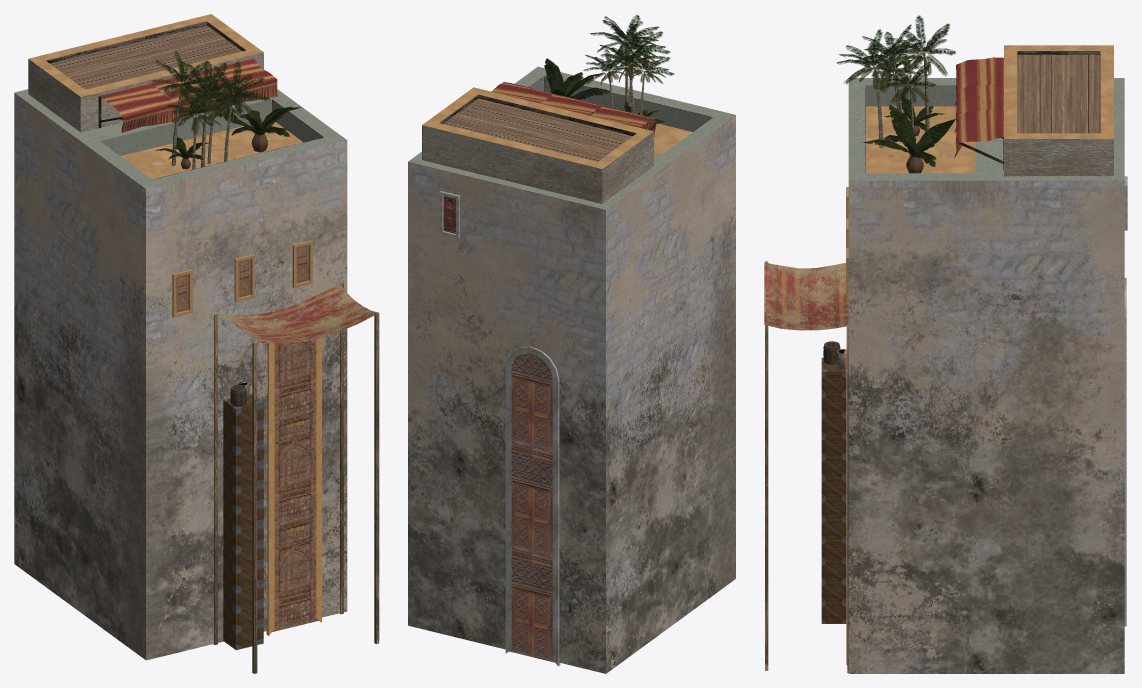
The model's file is medina_cityscape_daar_03_1.gltf.
3 views of the same model, side by side, from view 1: azimuth 30°, elevation 25°; view 2: azimuth 150°, elevation 25°; view 3: azimuth 270°, elevation 25° (orthographic). The views are drawn at different scales.
Parts seen in each view (by area): view 1: medina_cityscape_daar_03_1; view 2: medina_cityscape_daar_03_1; view 3: medina_cityscape_daar_03_1.
Boxes of the visible parts, x1,y1,x2,y2 form: medina_cityscape_daar_03_1: (14, 14, 379, 673); medina_cityscape_daar_03_1: (408, 15, 735, 673); medina_cityscape_daar_03_1: (764, 15, 1127, 673).
Bounding box in the file's own units: 4.49 × 12 × 6.71.
13 materials, 13 textured.
